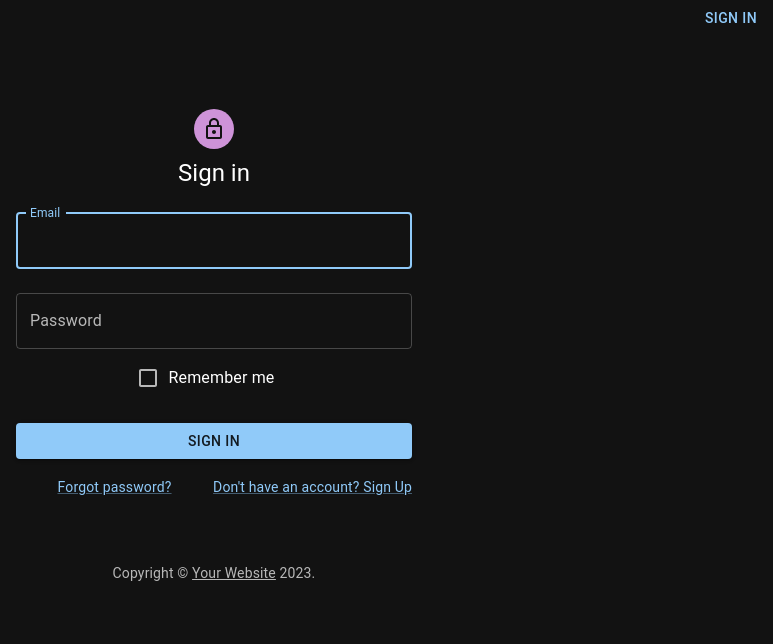
Test case: login › Should display errors if email and password parameters are incorrect
The width and height of the screenshot is (773, 644).
Type "12345" into the field named "email".
click(214, 241); type("12345")  # box [16,213,412,269]
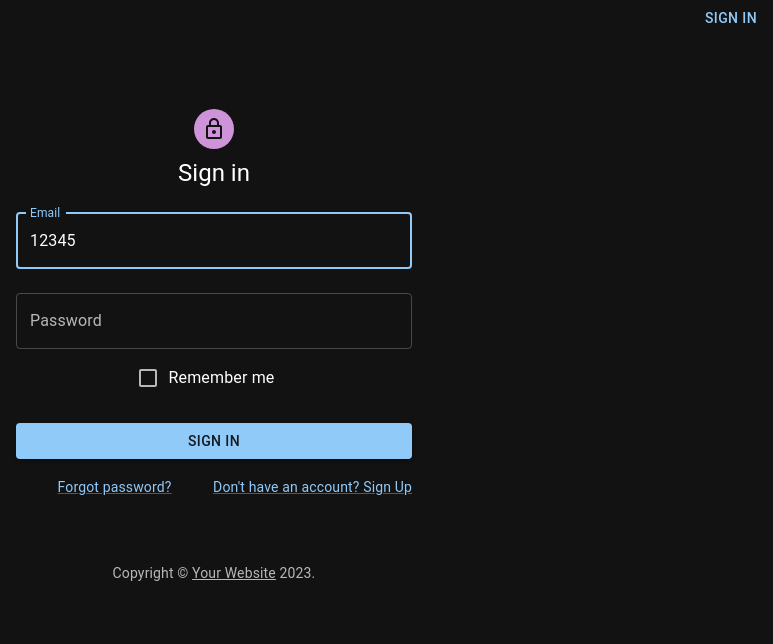
Type "12345" into the password field named "password".
click(214, 321); type("12345")  # box [16,293,412,349]
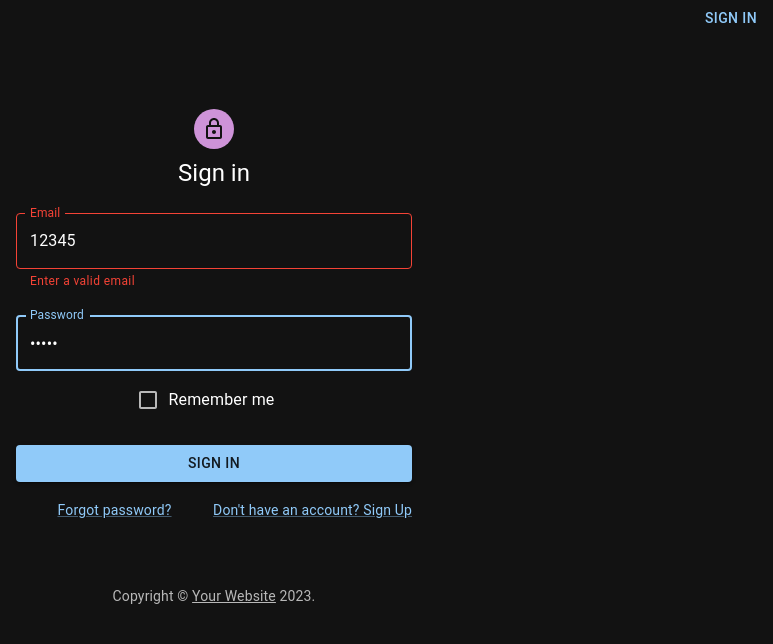
Click the button "Sign In".
click(214, 464)  # box [16,445,412,482]
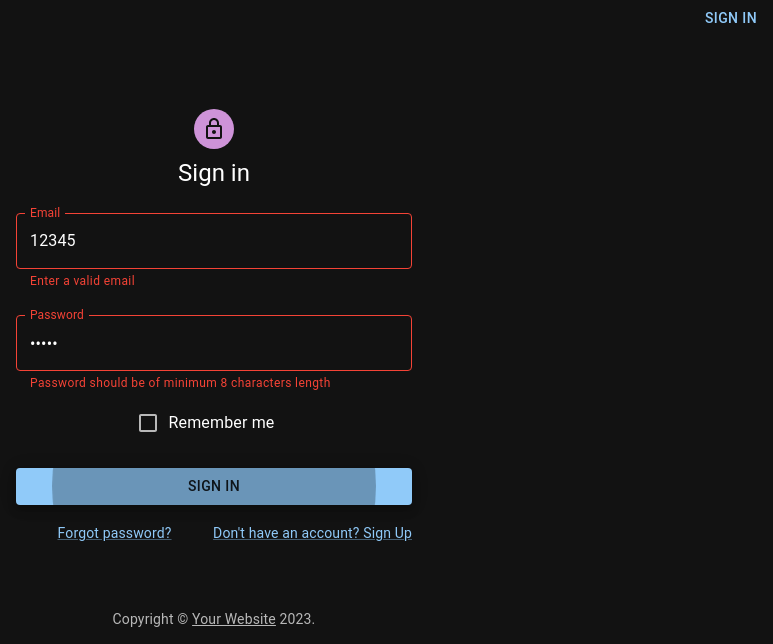
Check: the text "Enter a valid email" is shown, box [30,274,135,288]
Check: the text "Password should be of minimum 8 characters length" is shown, box [30,376,331,390]
